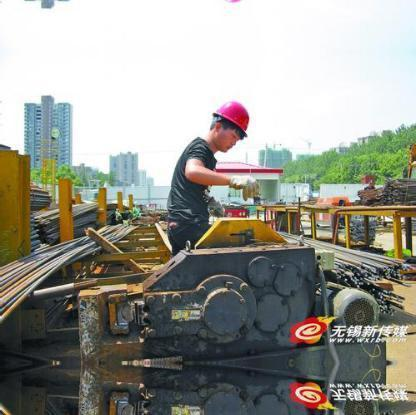helmet: (213, 101, 249, 138)
